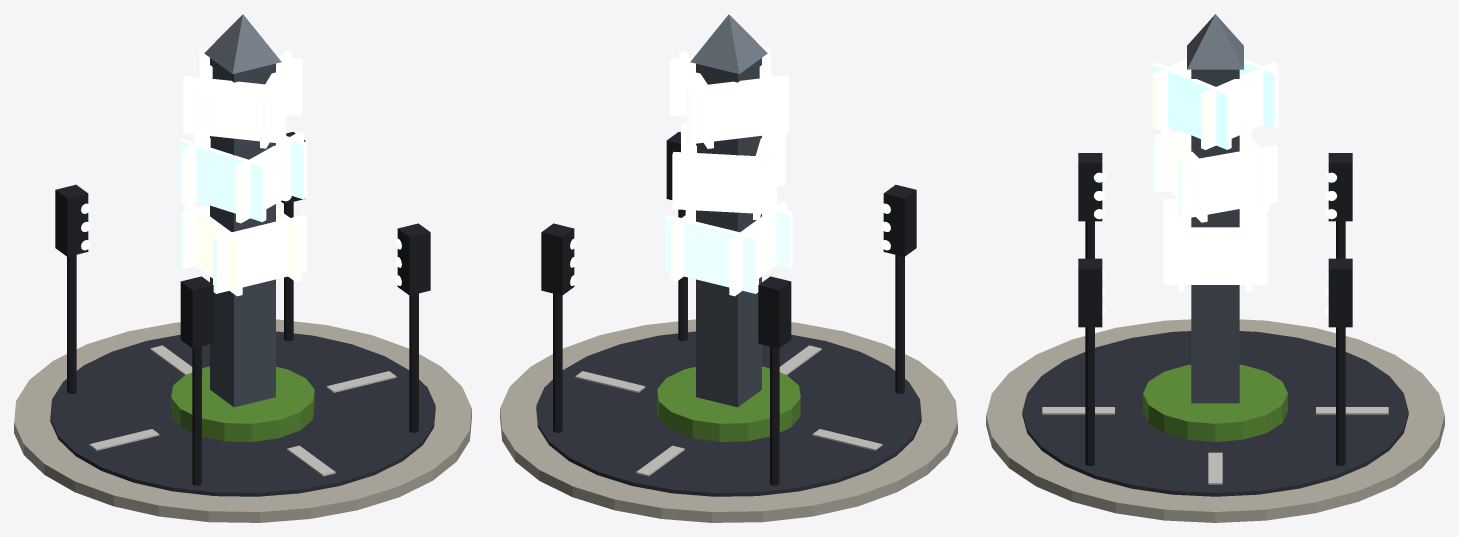
Rendered from lb-plaza.glb.
3 views of the same model, side by side, from view 1: azimuth 30°, elevation 25°; view 2: azimuth 150°, elevation 25°; view 3: azimuth 270°, elevation 25° (orthographic).
Parts seen in each view (by area): view 1: cw_paint, cw_glow, cw_neon; view 2: cw_paint, cw_neon, cw_glow; view 3: cw_paint, cw_glow, cw_neon.
Part boxes in pixels (x1,y1,x2,y2): cw_paint: [14, 14, 471, 522]; cw_glow: [81, 48, 401, 296]; cw_neon: [81, 50, 401, 293]; cw_paint: [500, 14, 957, 522]; cw_neon: [570, 47, 890, 293]; cw_glow: [570, 51, 890, 296]; cw_paint: [986, 14, 1444, 522]; cw_glow: [1094, 59, 1336, 316]; cw_neon: [1093, 58, 1337, 291].
Bounding box in the file's own units: 5.7 × 5.65 × 5.7.
